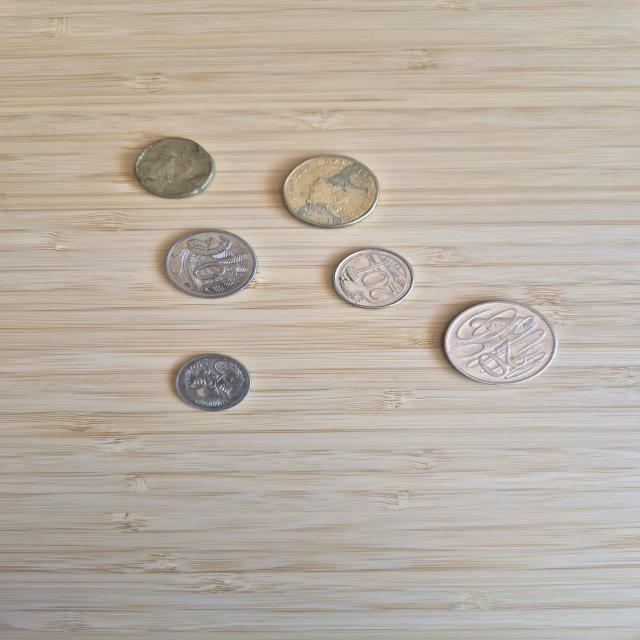1-dollar: (264, 149, 402, 236)
10-cents: (150, 225, 265, 302)
2-dollar: (126, 135, 221, 203)
20-cents: (436, 294, 570, 400)
5-cents: (307, 247, 420, 310), (160, 348, 260, 418)
